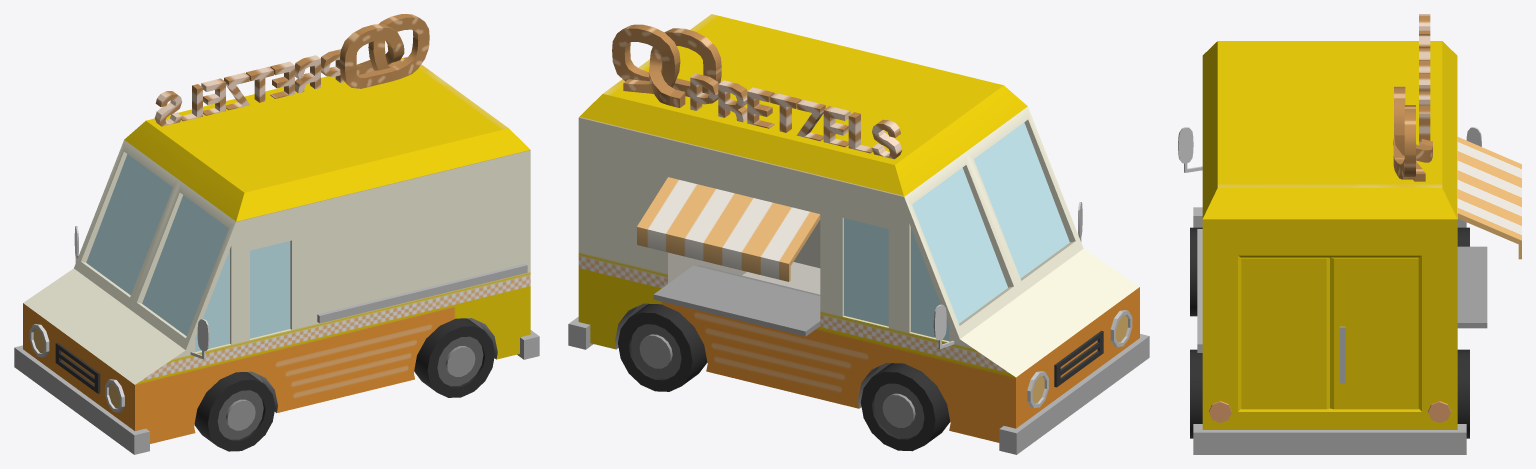
The model's file is fbx_foodtruck_Pretzels.fbx.
3 views of the same model, side by side, from view 1: azimuth 30°, elevation 25°; view 2: azimuth 150°, elevation 25°; view 3: azimuth 270°, elevation 25° (orthographic). The views are drawn at different scales.
Visible parts, largest first — view 1: fbx_foodtruck_Pretzels; view 2: fbx_foodtruck_Pretzels; view 3: fbx_foodtruck_Pretzels.
Boxes of the visible parts, x1=… form: fbx_foodtruck_Pretzels: x1=14, y1=14, x2=539, y2=454; fbx_foodtruck_Pretzels: x1=568, y1=14, x2=1149, y2=454; fbx_foodtruck_Pretzels: x1=1178, y1=14, x2=1521, y2=454.
Bounding box in the file's own units: 5.78 × 4.12 × 3.73.
Materials: 1 (1 with a texture image).
